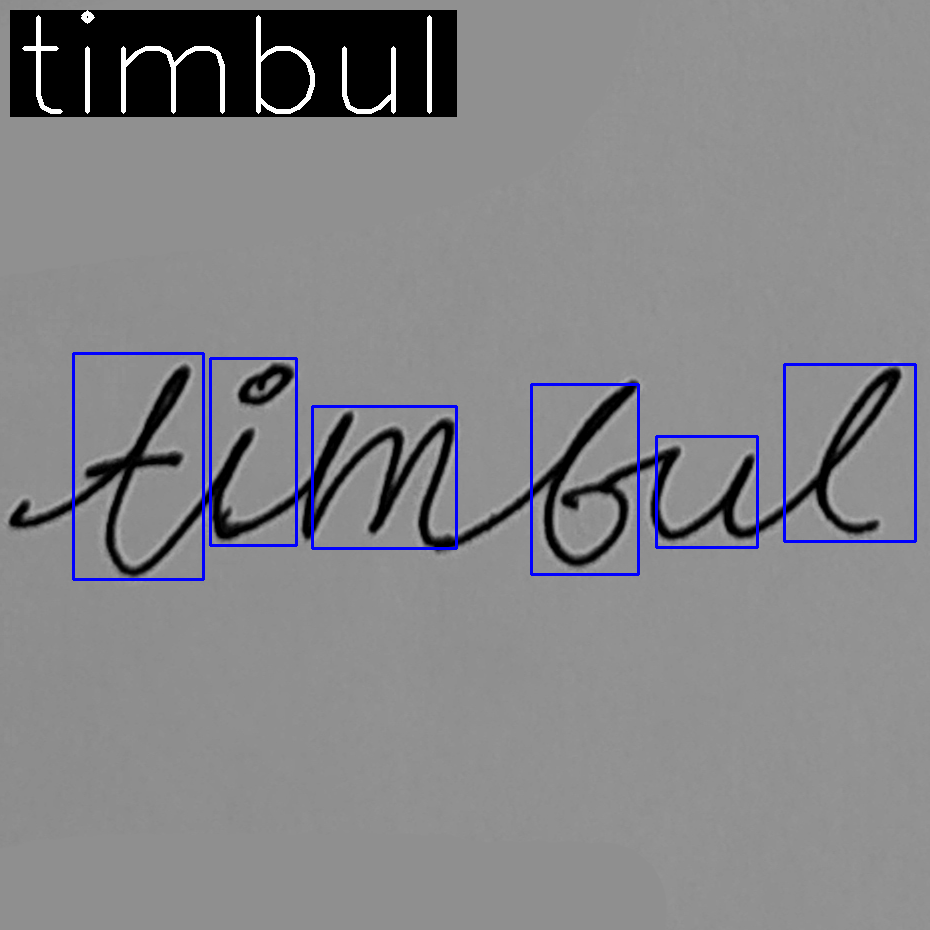b: (540, 377, 641, 568)
i: (203, 356, 295, 546)
l: (812, 362, 904, 538)
m: (299, 409, 459, 544)
t: (80, 360, 192, 579)
u: (647, 442, 757, 546)
